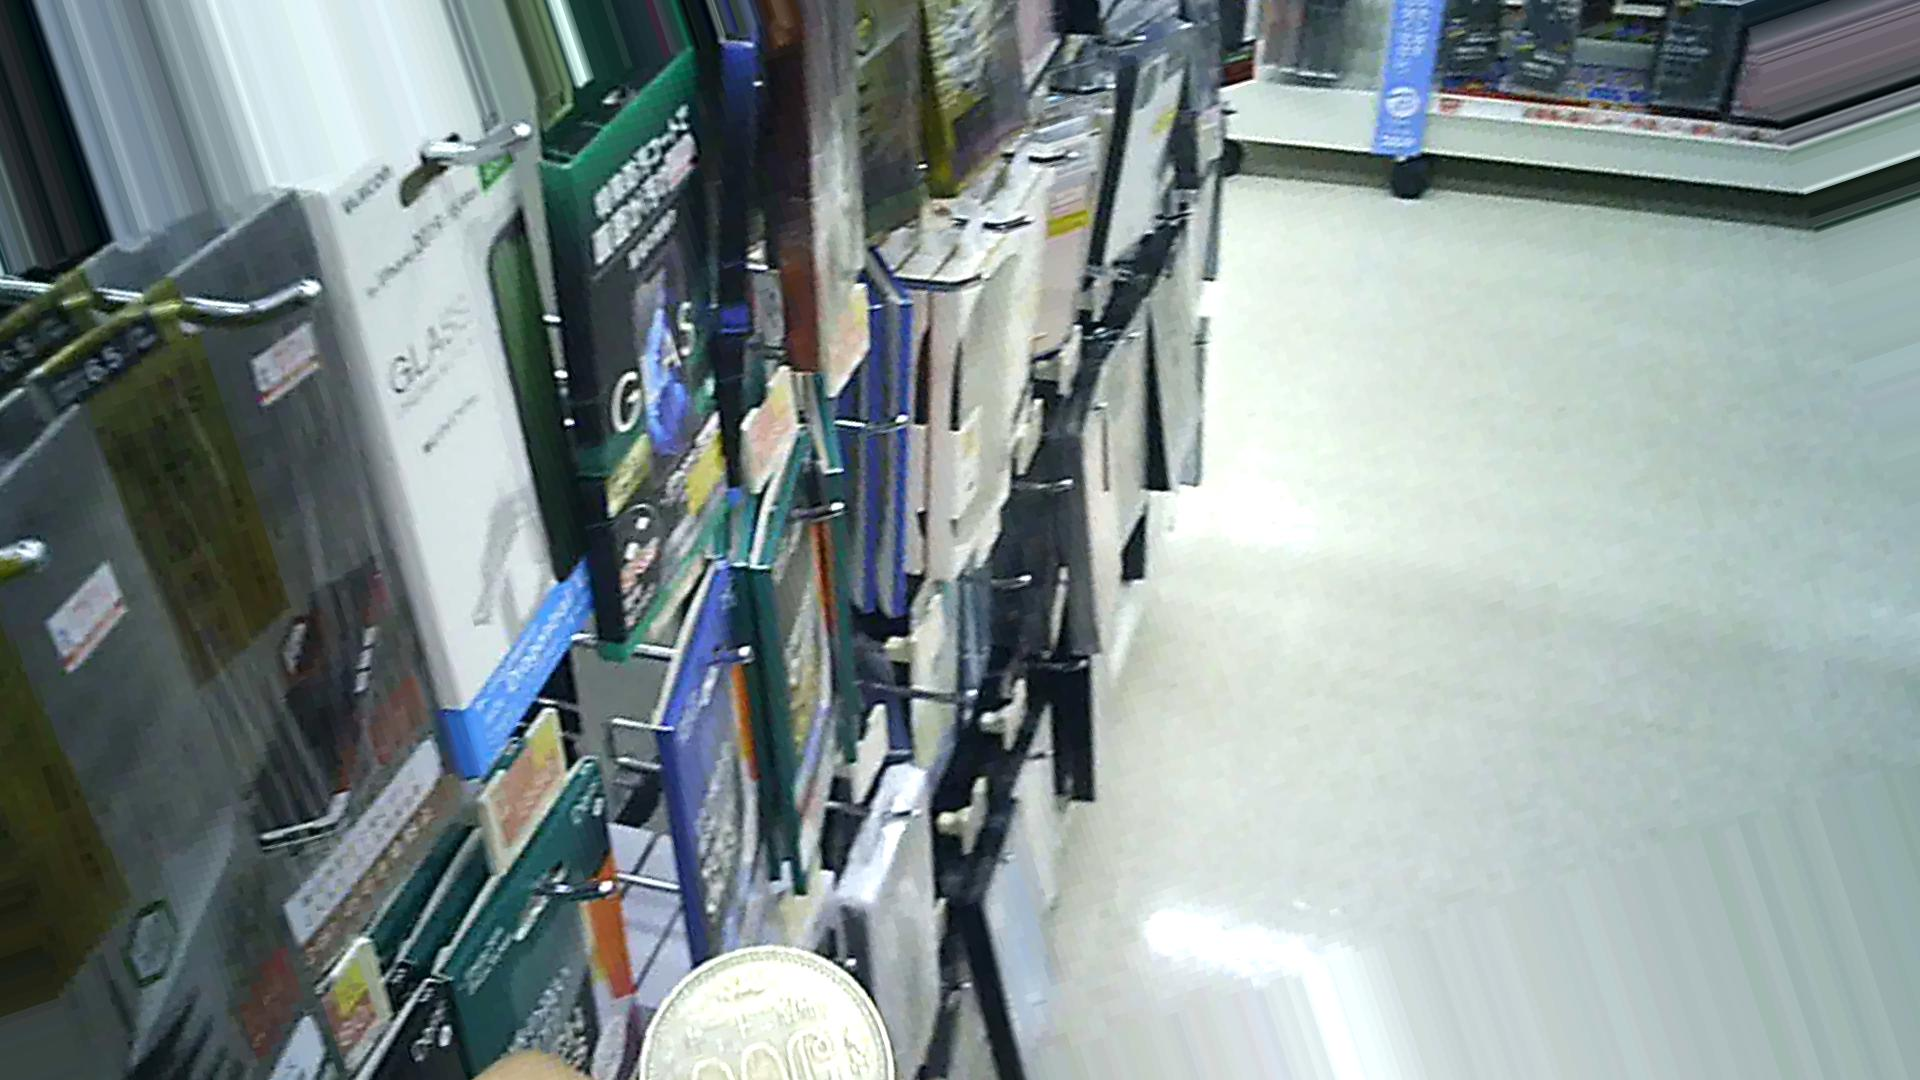500 Yen: (628, 936, 881, 1079)
